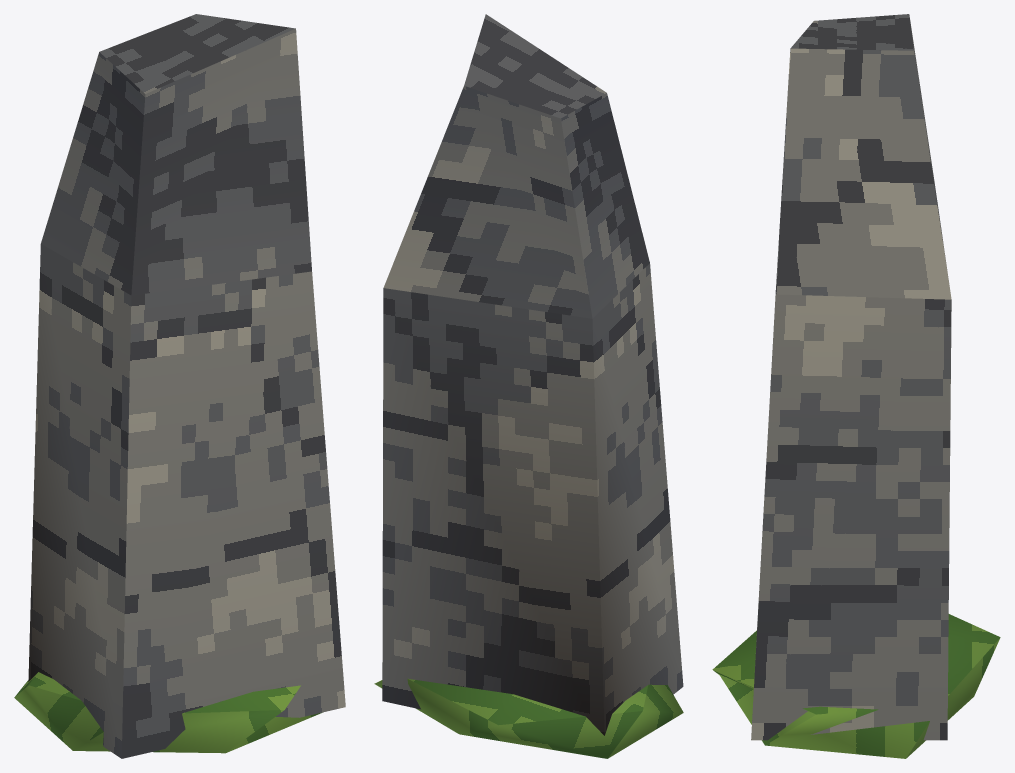
File: mnat.rock__standing.glb
3 renders of one model, left to right at view 1: azimuth 30°, elevation 25°; view 2: azimuth 150°, elevation 25°; view 3: azimuth 270°, elevation 25°, orthographic. The views are drawn at different scales.
Visible parts, largest first — view 1: kit_rock, kit_moss; view 2: kit_rock, kit_moss; view 3: kit_rock, kit_moss.
Part boxes in pixels (<box>): kit_rock: <box>28,14,345,758</box>; kit_moss: <box>14,672,322,753</box>; kit_rock: <box>382,14,683,735</box>; kit_moss: <box>374,678,683,758</box>; kit_rock: <box>751,14,951,740</box>; kit_moss: <box>712,614,1000,758</box>.
Bounding box in the file's own units: 1.04 × 2.49 × 0.9323.
Materials: 2 (2 with a texture image).
